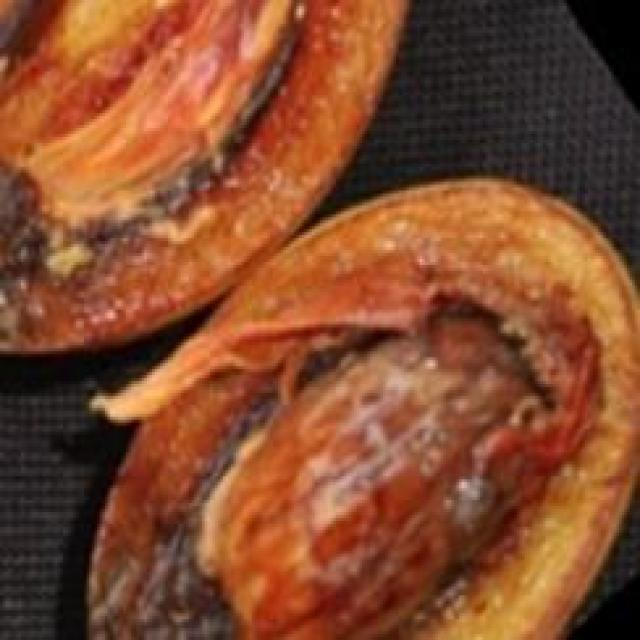damaged: (79, 176, 637, 637)
